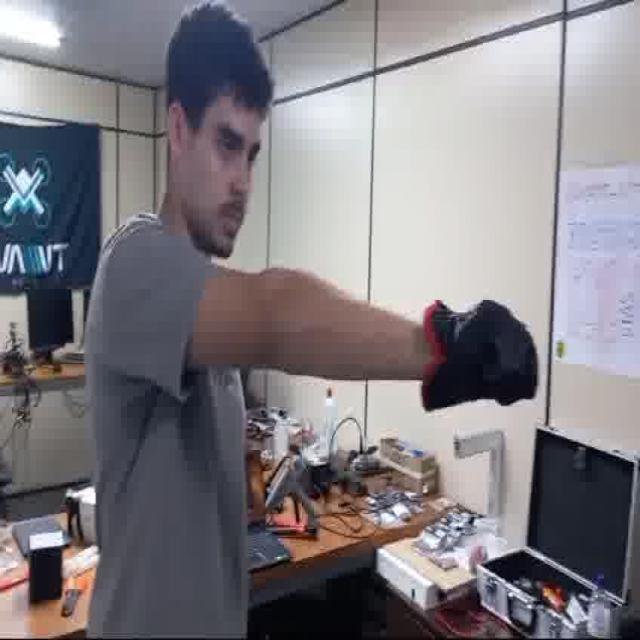Gloves: (427, 287, 538, 423)
